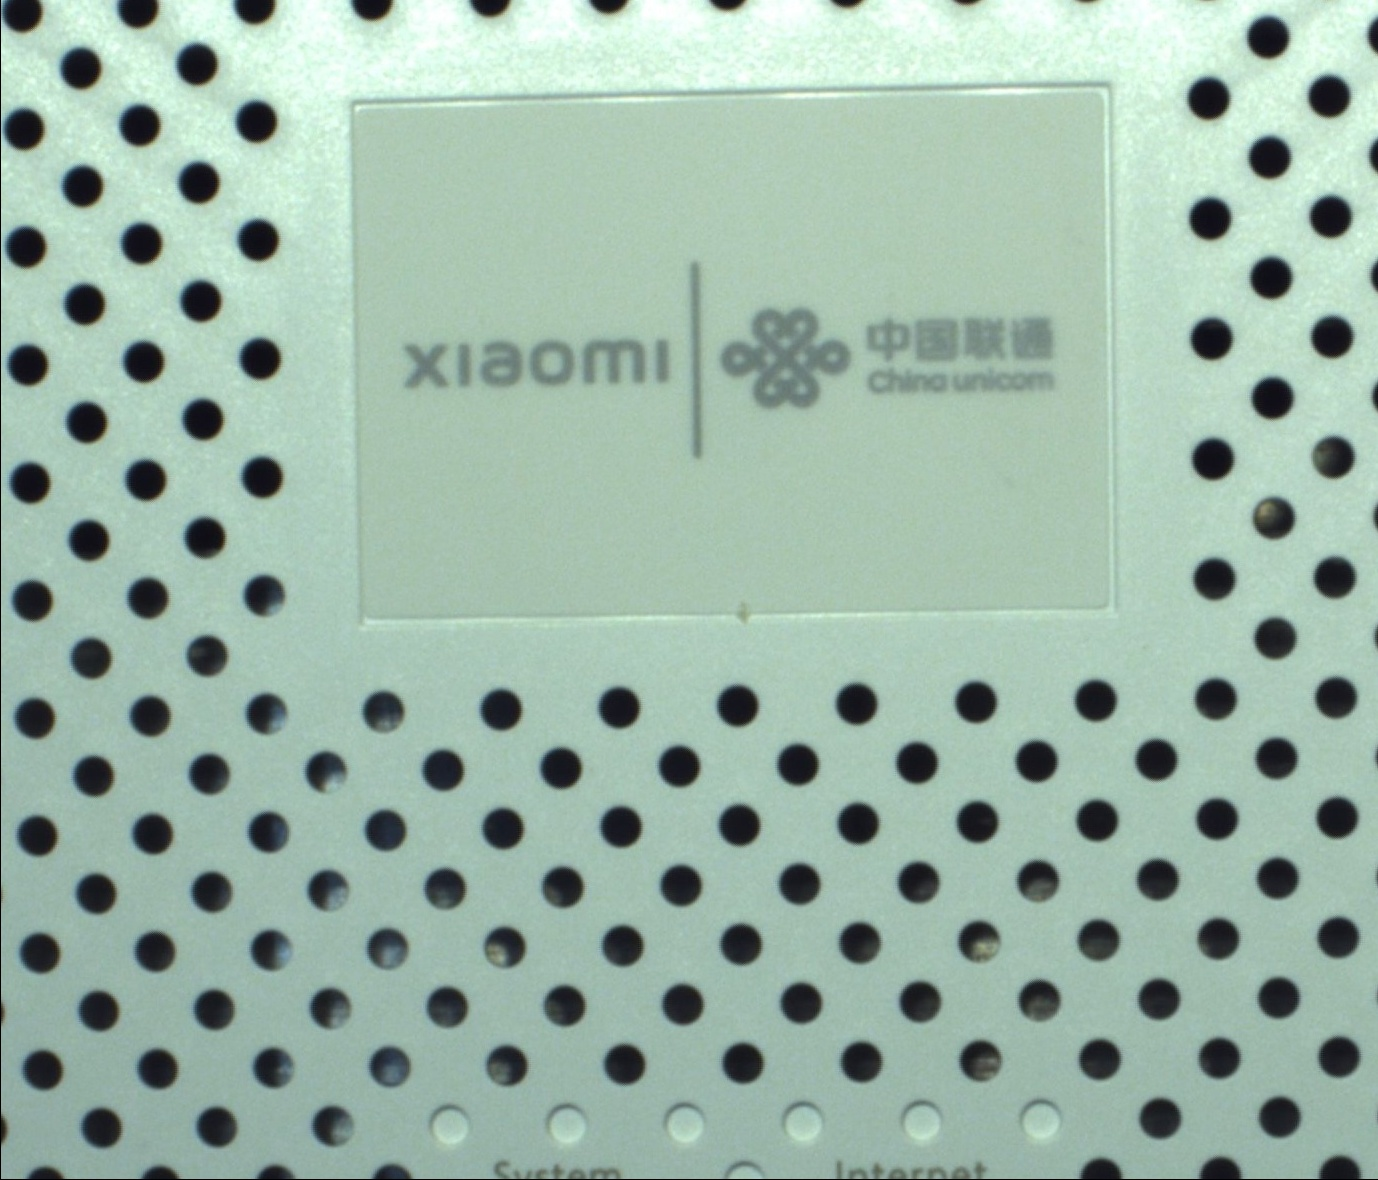MAC_NewUnicom: (391, 252, 1061, 450)
